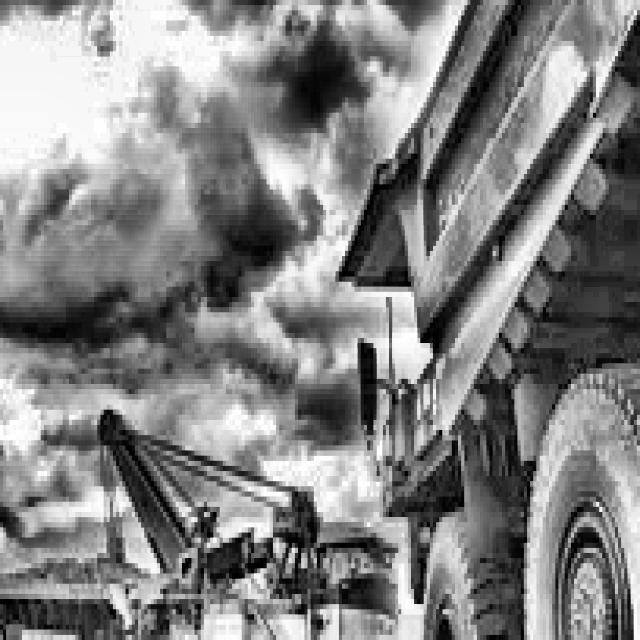dump_truck: (329, 0, 640, 640), (0, 537, 116, 640)
excavator: (91, 394, 414, 640)
